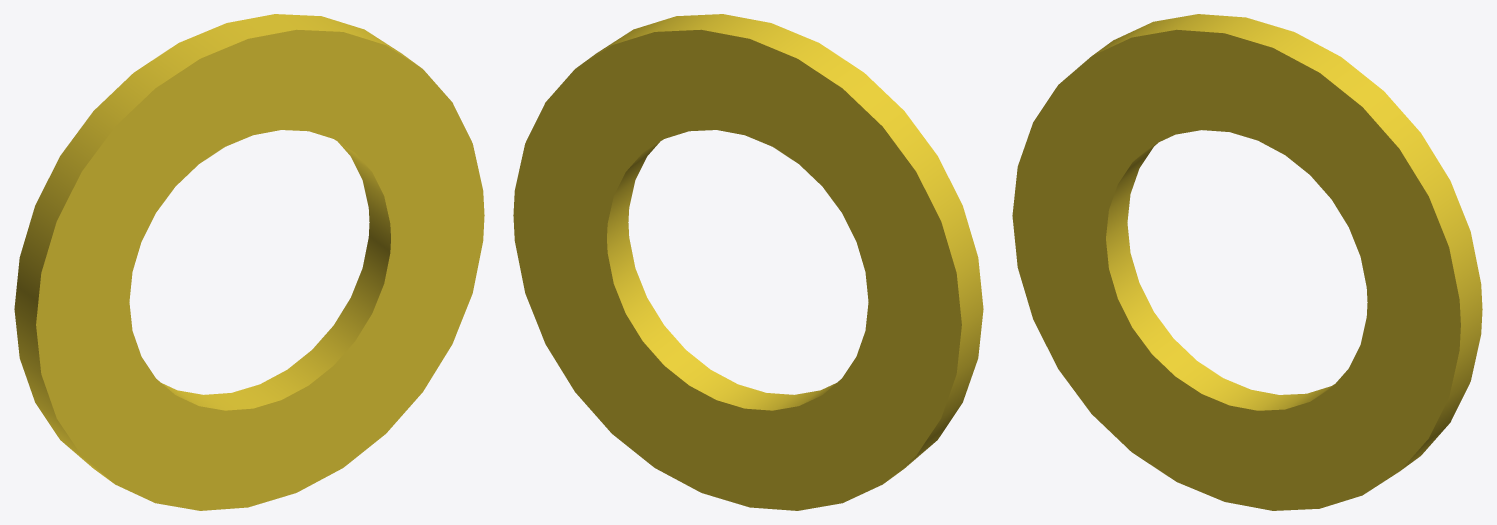
Rendered from _5906K566_Oil_Embedded_Thrust_Bronze_Bearing.gltf.
The picture shows the model from 3 angles, left to right: view 1: azimuth 30°, elevation 25°; view 2: azimuth 150°, elevation 25°; view 3: azimuth 330°, elevation 25°; orthographic projection.
Parts seen in each view (by area): view 1: mesh17600, mesh17601, mesh17603; view 2: mesh17602, mesh17601, mesh17603; view 3: mesh17600, mesh17601, mesh17603.
Part boxes in pixels (x1=…): mesh17600: x1=36, y1=29, x2=484, y2=510; mesh17601: x1=14, y1=14, x2=420, y2=483; mesh17603: x1=162, y1=142, x2=390, y2=410; mesh17602: x1=513, y1=29, x2=961, y2=510; mesh17601: x1=577, y1=14, x2=983, y2=483; mesh17603: x1=607, y1=142, x2=835, y2=410; mesh17600: x1=1012, y1=29, x2=1460, y2=510; mesh17601: x1=1092, y1=14, x2=1482, y2=470; mesh17603: x1=1106, y1=143, x2=1334, y2=410.
Size of the model in its own units: 0.0191 by 0.019 by 0.00159.
